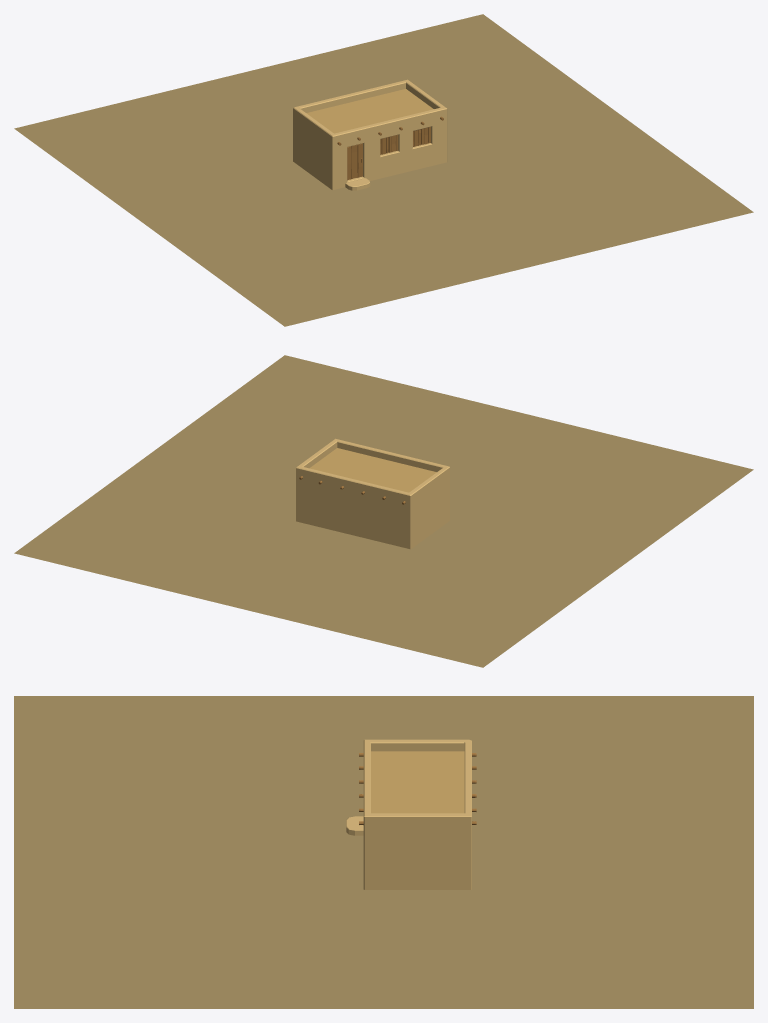
Rendered from Tile 37_Combined.fbx.
The picture shows the model from 3 angles, top to bottom: view 1: azimuth 30°, elevation 25°; view 2: azimuth 150°, elevation 25°; view 3: azimuth 270°, elevation 25°; orthographic projection. The views are drawn at different scales.
Parts seen in each view (by area): view 1: MeshBaker_mesh_mesh; view 2: MeshBaker_mesh_mesh; view 3: MeshBaker_mesh_mesh.
Part boxes in pixels (x1=…): MeshBaker_mesh_mesh: x1=14, y1=14, x2=753, y2=326; MeshBaker_mesh_mesh: x1=14, y1=355, x2=753, y2=667; MeshBaker_mesh_mesh: x1=14, y1=696, x2=753, y2=1008.
Bounding box in the file's own units: 3000 × 330 × 3000.
